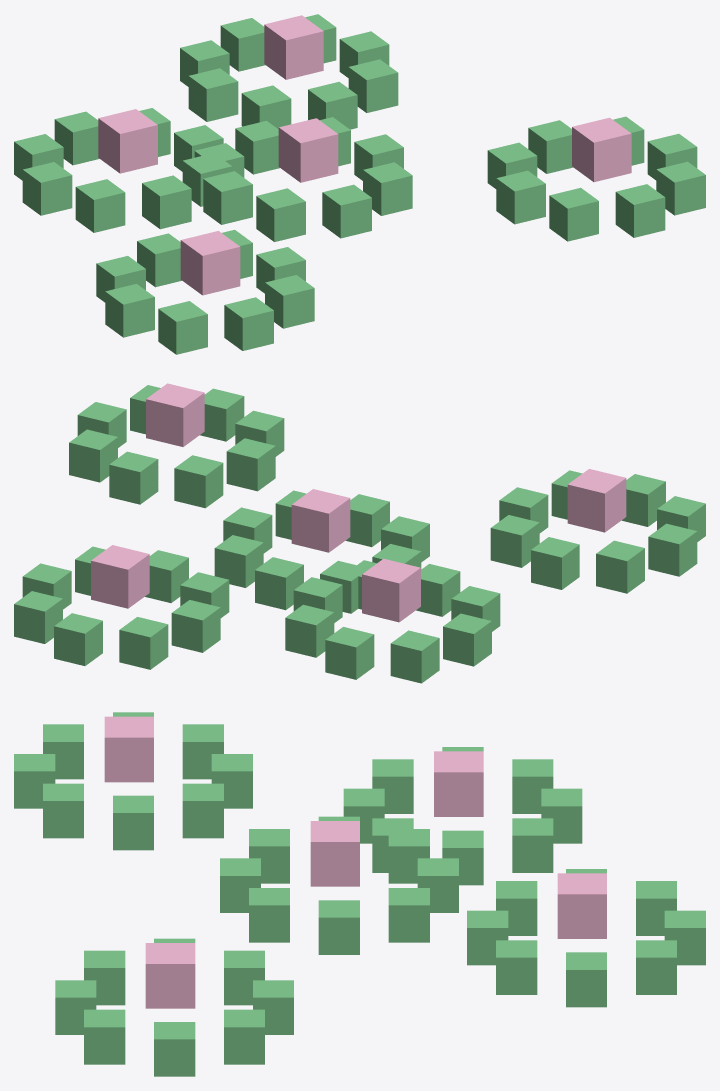
The model's file is voxel-jinan-lily-cluster.gltf.
3 renders of one model, top to bottom at view 1: azimuth 30°, elevation 25°; view 2: azimuth 150°, elevation 25°; view 3: azimuth 270°, elevation 25°, orthographic. The views are drawn at different scales.
Size of the model in its own units: 0.94 by 0.1 by 0.84.
